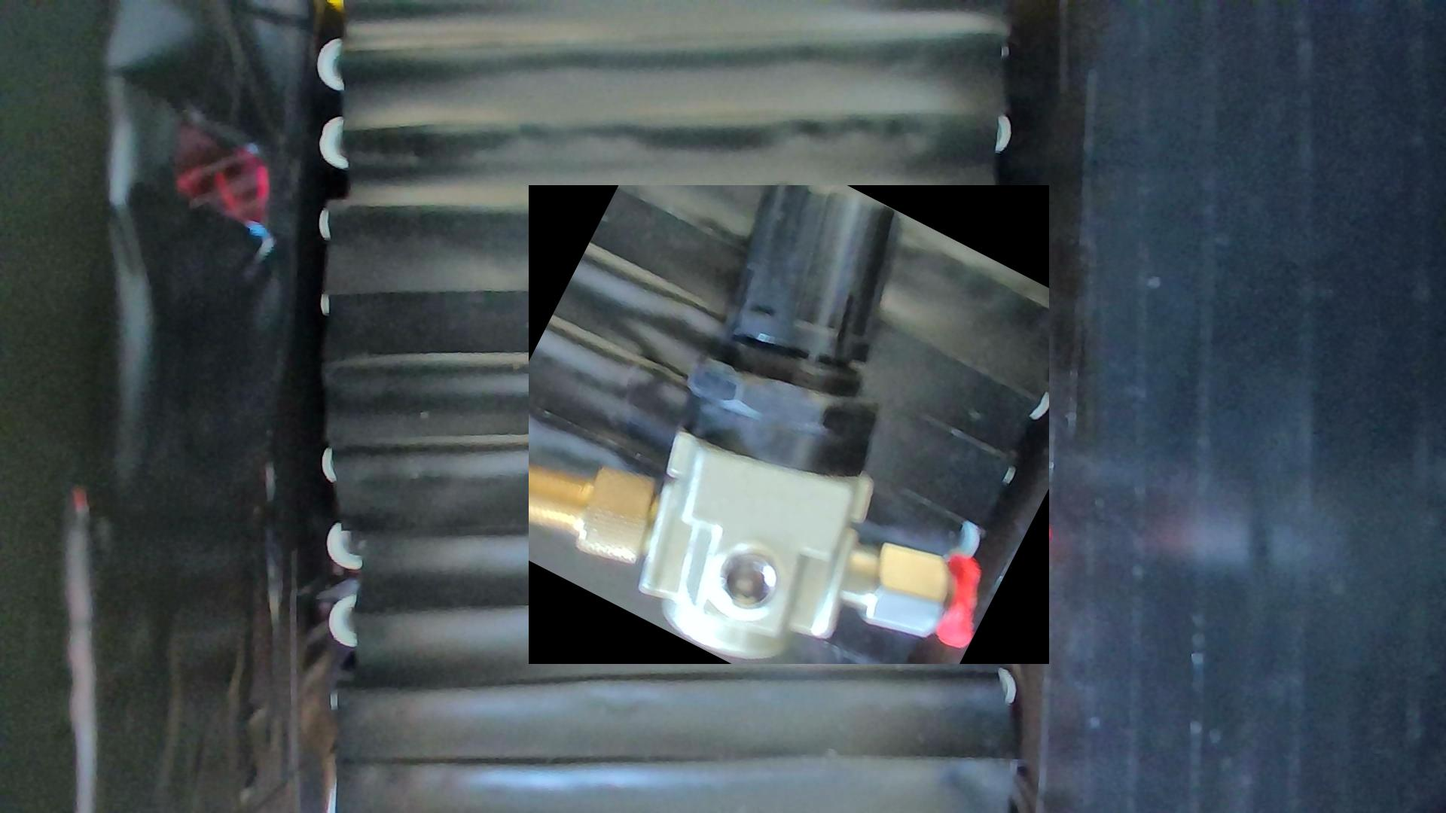regulator: (529, 185, 1050, 664)
